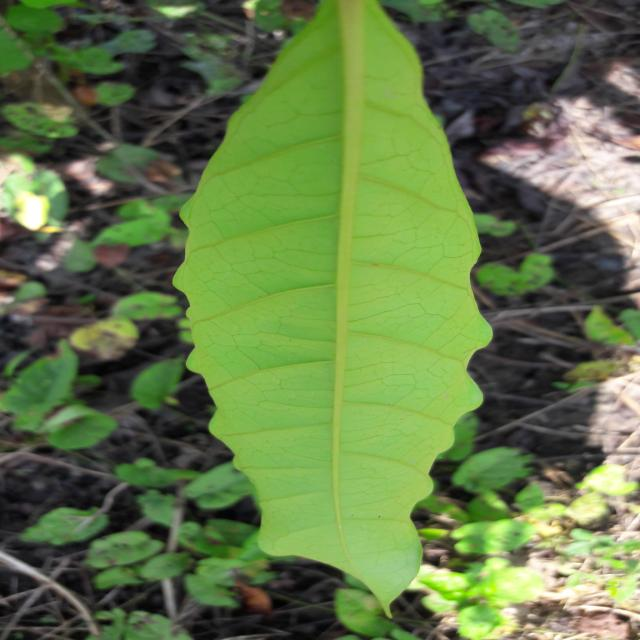Sanas: (173, 0, 493, 619)
